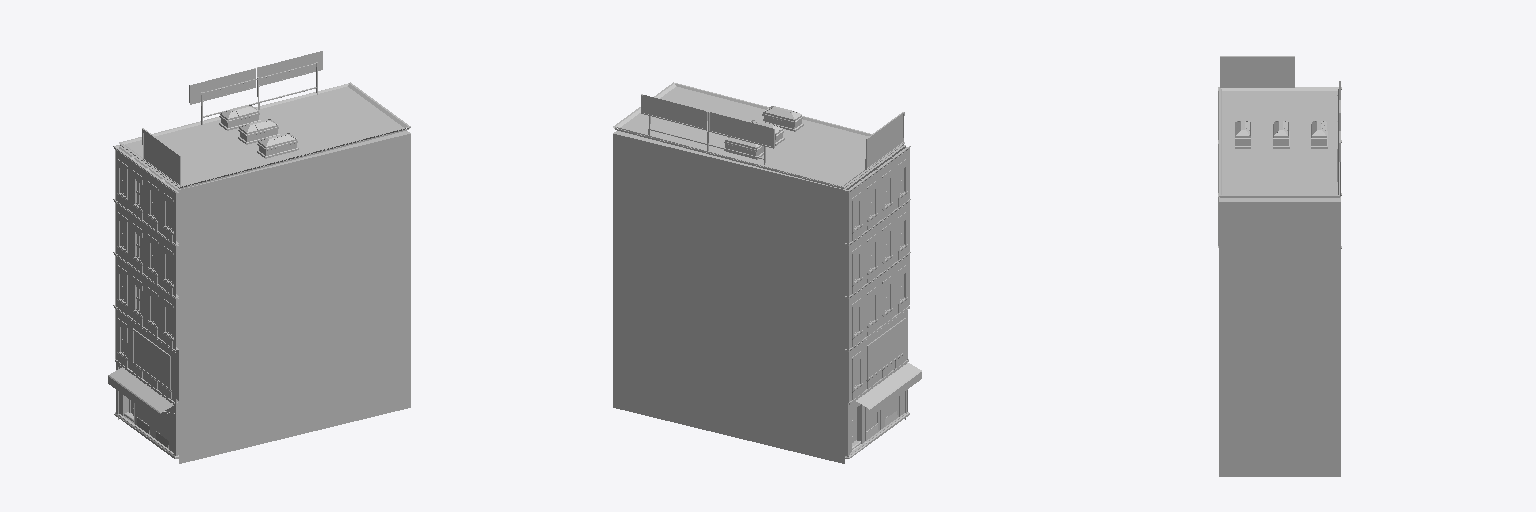
The model's file is building_Six.obj.
3 views of the same model, side by side, from view 1: azimuth 30°, elevation 25°; view 2: azimuth 150°, elevation 25°; view 3: azimuth 270°, elevation 25° (orthographic).
Visible parts, largest first — view 1: building sides __Comp10__2, building top __Comp10__5, building facade __Comp10__3 __Subdiv15__2 AllFloors windows __Re, building facade __Comp10__3 __Subdiv15__2 AllFloors __Repeat1__0, building facade __Comp10__3 __Subdiv15__2 AllFloors __Repeat1__1, building facade __Comp10__3 __Subdiv15__1 downfloor __Subdiv1__1, building facade __Comp10__3 __Subdiv15__2 AllFloors __Repeat2__0, building facade __Comp10__3 __Subdiv15__1 downfloor, building facade __Comp10__3 __Subdiv15__1 downfloor __Subdiv1__0, building sides __Comp10__0; view 2: building sides __Comp10__0, building top __Comp10__5, building facade __Comp10__3 __Subdiv15__2 AllFloors windows __Re, building facade __Comp10__3 __Subdiv15__2 AllFloors __Repeat1__1, building facade __Comp10__3 __Subdiv15__2 AllFloors __Repeat1__0, building facade __Comp10__3 __Subdiv15__2 AllFloors __Repeat2__0, building facade __Comp10__3 __Subdiv15__1 downfloor, building facade __Comp10__3 __Subdiv15__1 downfloor __Subdiv1__1, building facade __Comp10__3 __Subdiv15__1 downfloor __Subdiv1__0; view 3: building sides __Comp10__1, building top __Comp10__5.
Boxes of the visible parts, box(x1,y1,x2,y2) form: building sides __Comp10__2: box(179, 134, 410, 463); building top __Comp10__5: box(118, 51, 410, 189); building facade __Comp10__3 __Subdiv15__2 AllFloors windows __Re: box(128, 156, 178, 296); building facade __Comp10__3 __Subdiv15__2 AllFloors __Repeat1__0: box(113, 305, 178, 402); building facade __Comp10__3 __Subdiv15__2 AllFloors __Repeat1__1: box(113, 252, 178, 349); building facade __Comp10__3 __Subdiv15__1 downfloor __Subdiv1__1: box(133, 372, 178, 458); building facade __Comp10__3 __Subdiv15__2 AllFloors __Repeat2__0: box(113, 145, 129, 262); building facade __Comp10__3 __Subdiv15__1 downfloor: box(108, 367, 178, 420); building facade __Comp10__3 __Subdiv15__1 downfloor __Subdiv1__0: box(114, 359, 135, 427); building sides __Comp10__0: box(118, 147, 178, 419); building sides __Comp10__0: box(613, 134, 844, 463); building top __Comp10__5: box(613, 82, 905, 189); building facade __Comp10__3 __Subdiv15__2 AllFloors windows __Re: box(860, 146, 910, 284); building facade __Comp10__3 __Subdiv15__2 AllFloors __Repeat1__1: box(845, 252, 910, 349); building facade __Comp10__3 __Subdiv15__2 AllFloors __Repeat1__0: box(845, 306, 909, 402); building facade __Comp10__3 __Subdiv15__2 AllFloors __Repeat2__0: box(845, 180, 864, 296); building facade __Comp10__3 __Subdiv15__1 downfloor: box(845, 363, 921, 416); building facade __Comp10__3 __Subdiv15__1 downfloor __Subdiv1__1: box(864, 359, 909, 444); building facade __Comp10__3 __Subdiv15__1 downfloor __Subdiv1__0: box(838, 390, 867, 458); building sides __Comp10__1: box(1219, 202, 1340, 476); building top __Comp10__5: box(1219, 56, 1340, 201).
Bounding box in the file's own units: 4533 × 5544 × 1943.